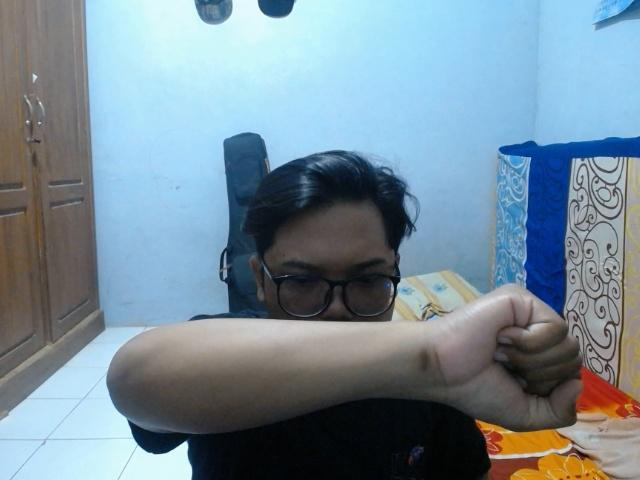Grab: (418, 274, 584, 440)
